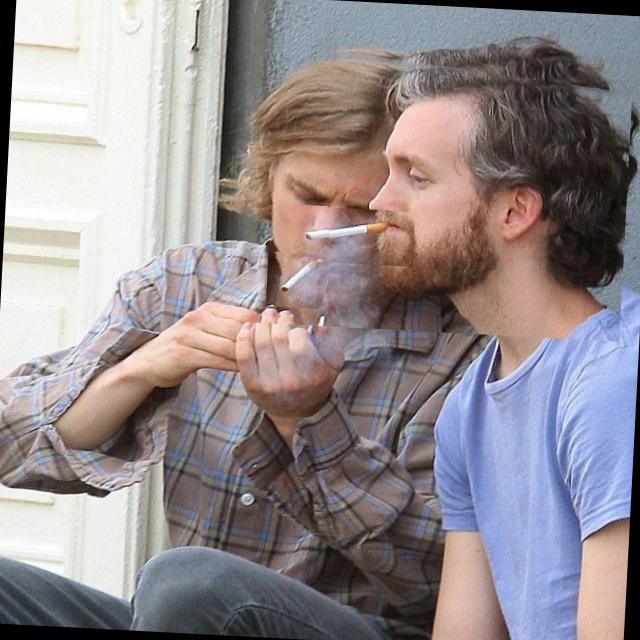cigarette: (292, 204, 416, 266), (266, 252, 331, 310)
